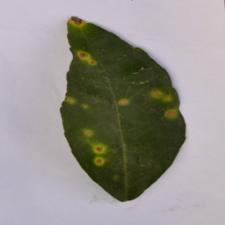Canker: (40, 19, 181, 179)
